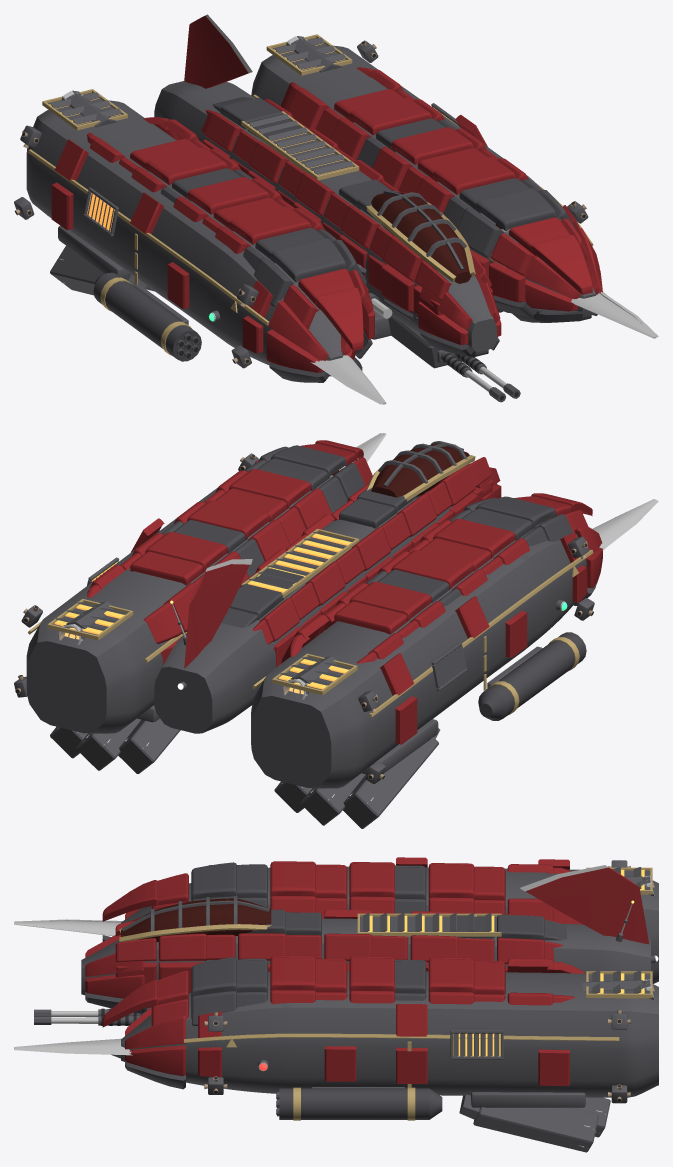
Rendered from enemy_fighter.glb.
3 renders of one model, top to bottom at view 1: azimuth 30°, elevation 25°; view 2: azimuth 150°, elevation 25°; view 3: azimuth 270°, elevation 25°, orthographic. The views are drawn at different scales.
Visible parts, largest first — view 1: enemy_fighter; view 2: enemy_fighter; view 3: enemy_fighter.
Boxes of the visible parts, x1,y1,x2,y2 form: enemy_fighter: (14, 14, 658, 404); enemy_fighter: (14, 433, 658, 828); enemy_fighter: (14, 857, 658, 1152).
Bounding box in the file's own units: 6.31 × 3.38 × 8.97.
